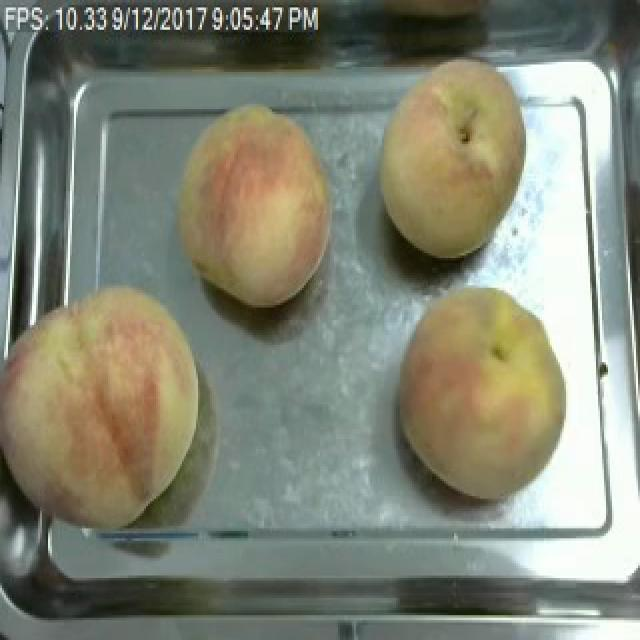Fruit: (2, 275, 212, 546), (390, 275, 578, 506), (168, 96, 344, 318), (368, 47, 540, 268)
